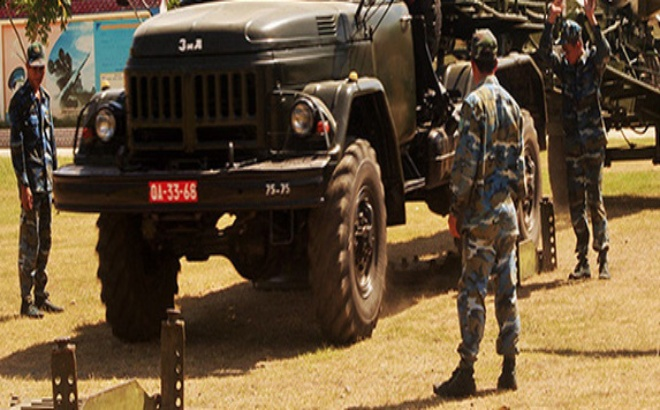plate: (144, 177, 202, 206)
